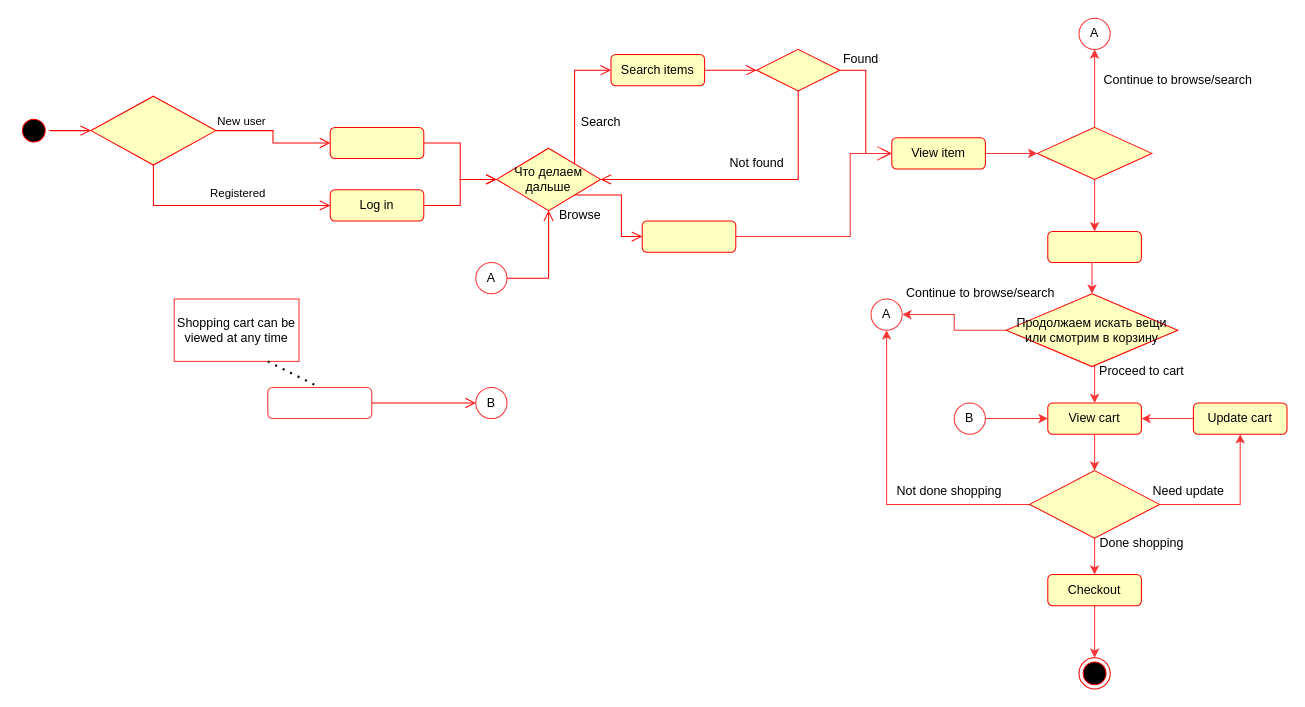
Some shapes in this 1305 by 707 pixel diagram are drawn without their labels. Each missing label, with the centre of its shape:
"Add to cart" goes at (1094,246).
"Browse items" goes at (688,236).
"Check cart" goes at (319,402).
"Make decision" goes at (1094,152).
"Register" goes at (376,142).
"Закончили составление корзины?" goes at (1094,504).
"Сущ или новый пользователь" goes at (153,130).
